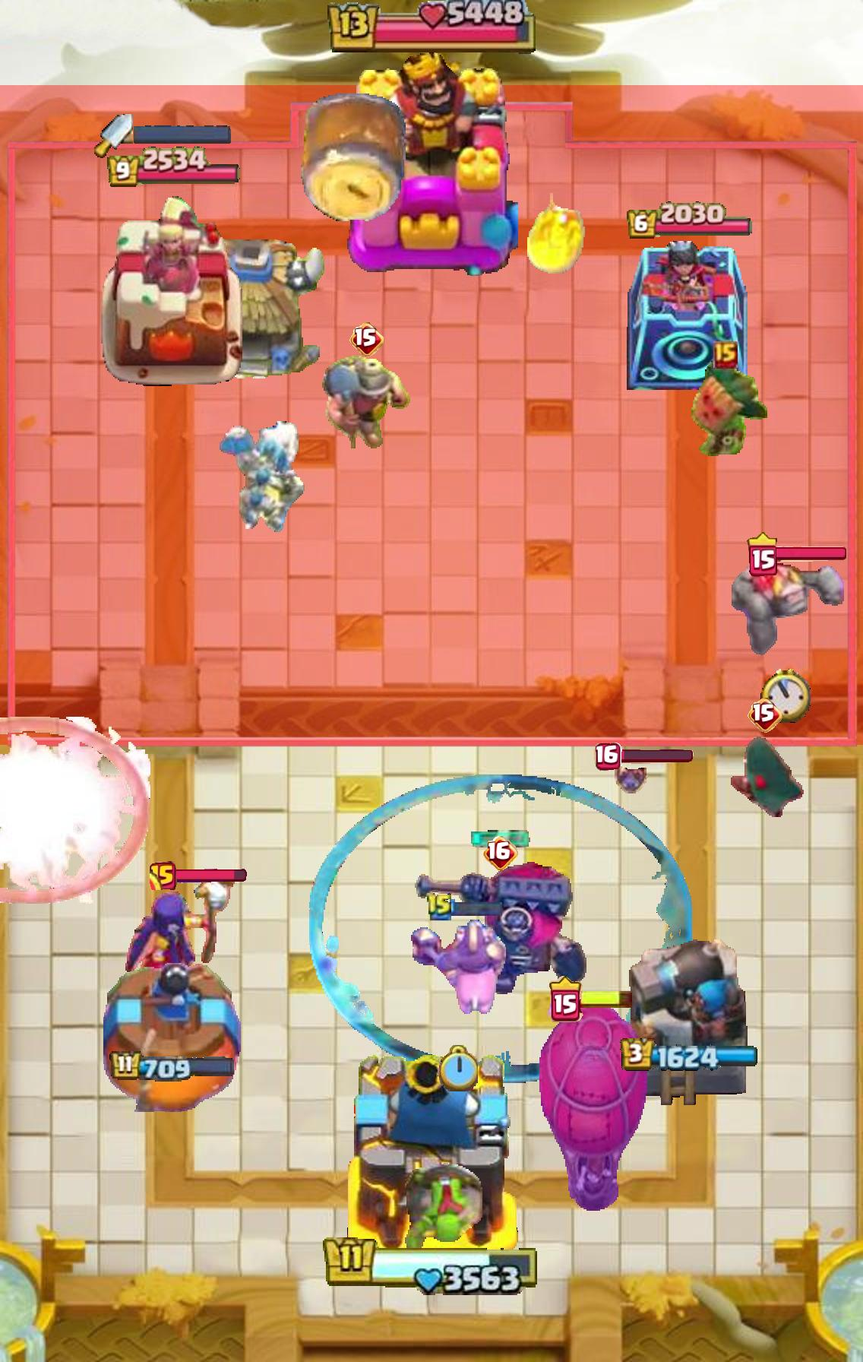hog-rider: (409, 910, 506, 1019)
